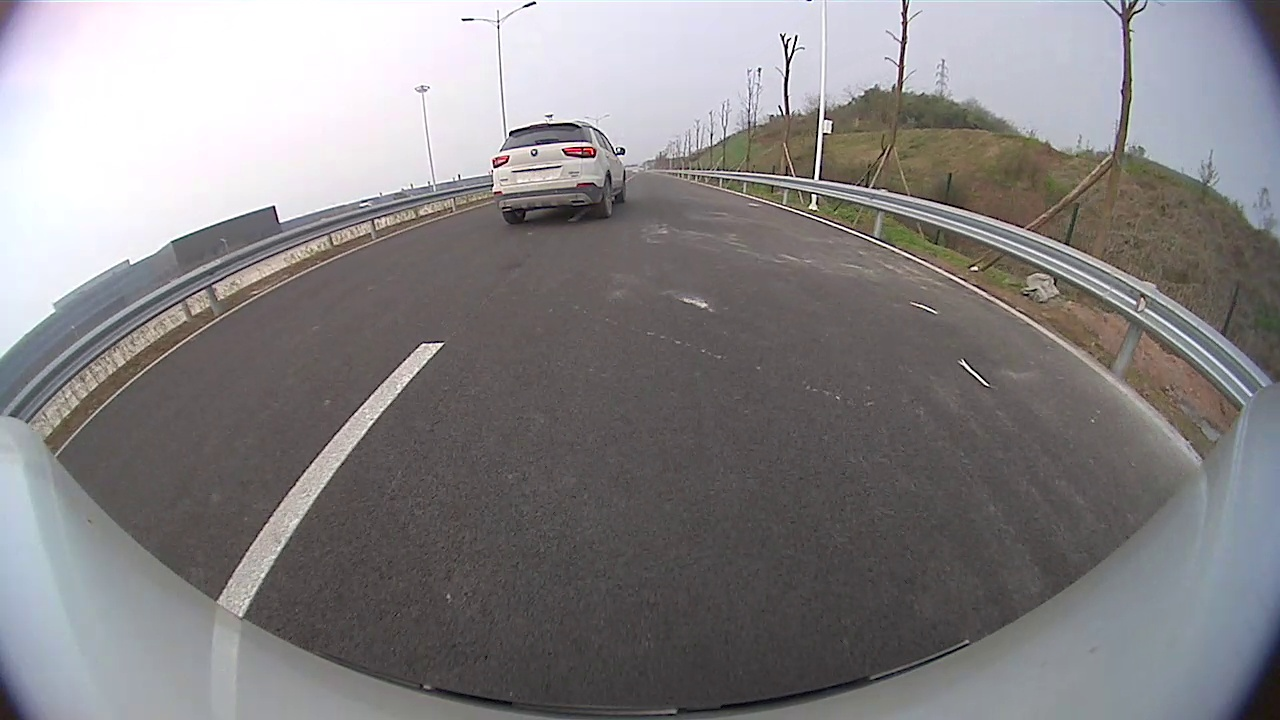car: (491, 119, 629, 226)
rear: (601, 174, 615, 218)
